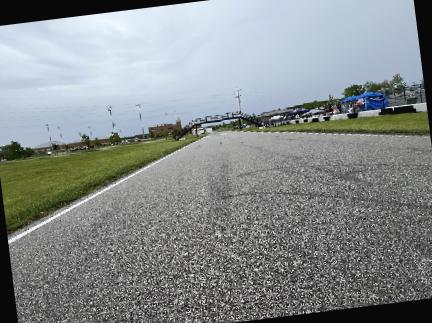Grass: (0, 136, 196, 232), (243, 113, 429, 134)
Lane: (9, 131, 431, 322)
